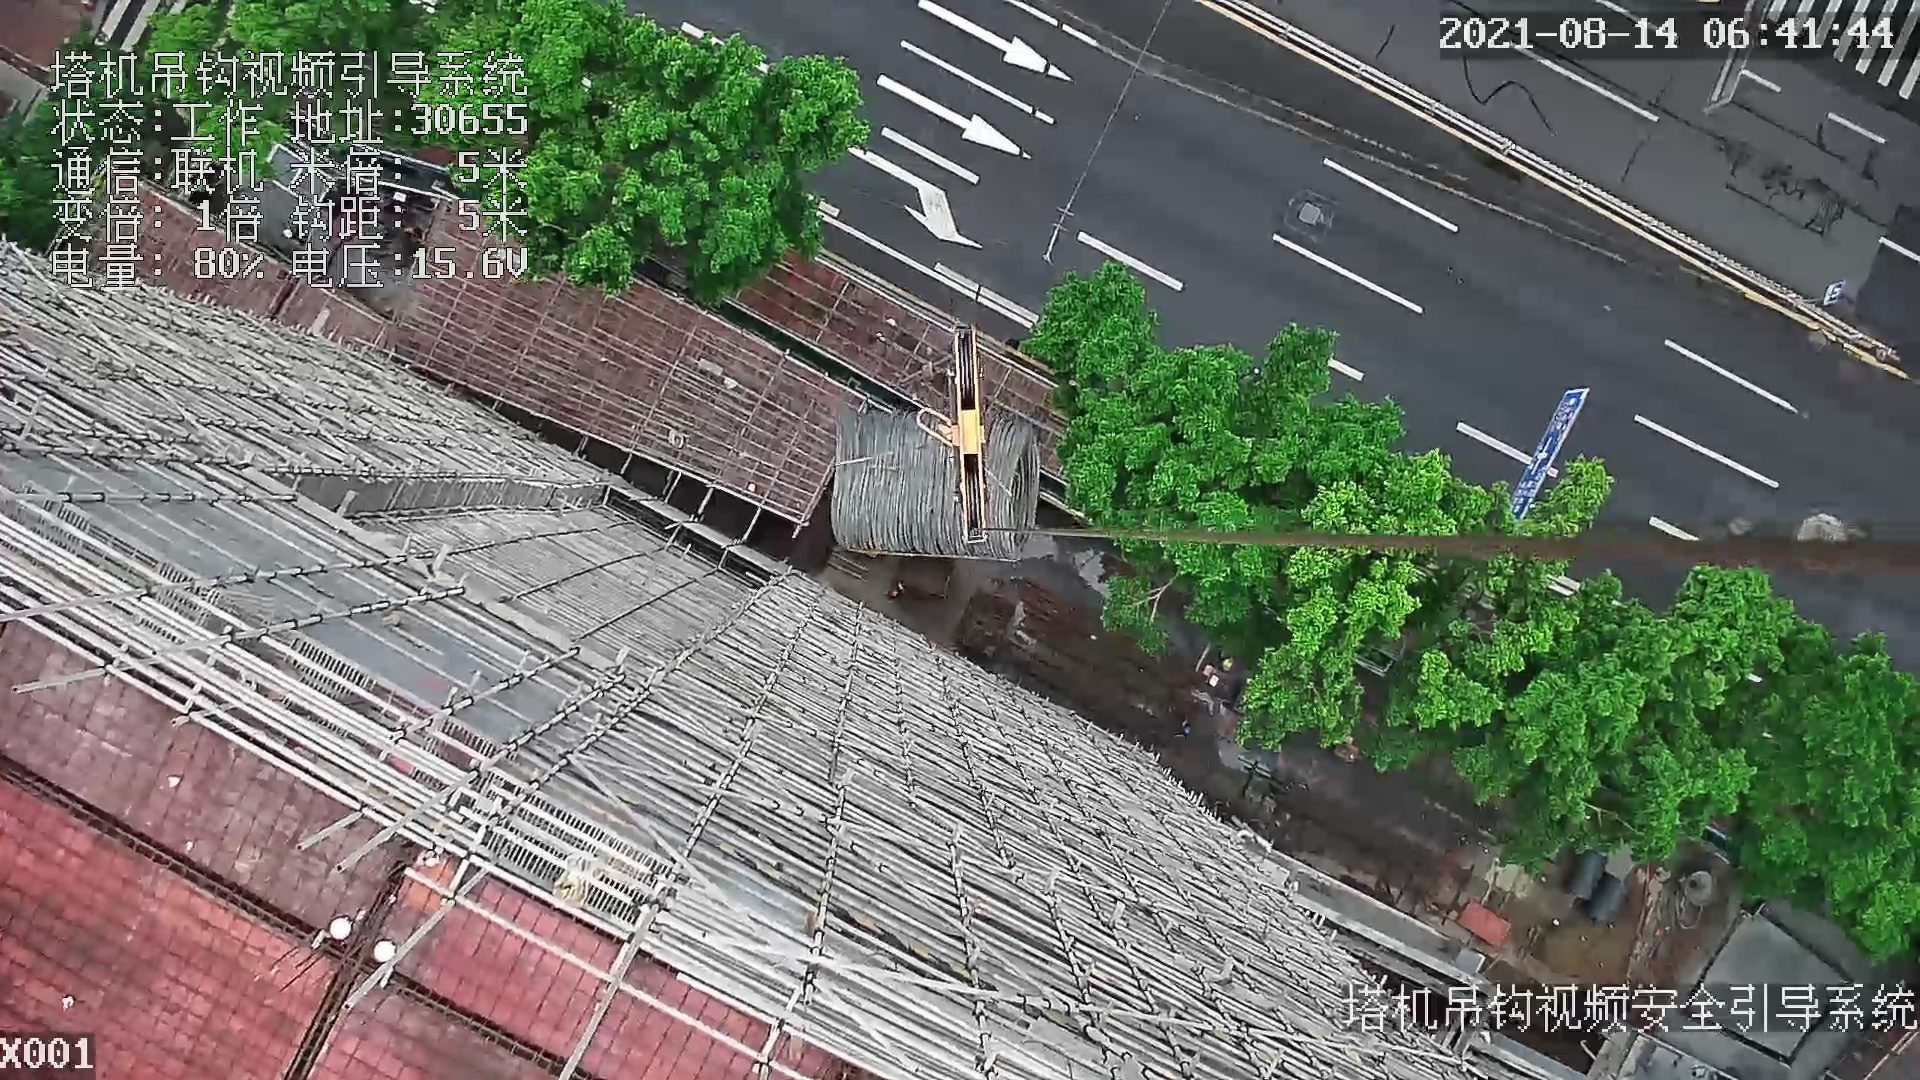hook: (912, 322, 995, 546)
person: (884, 584, 904, 601)
